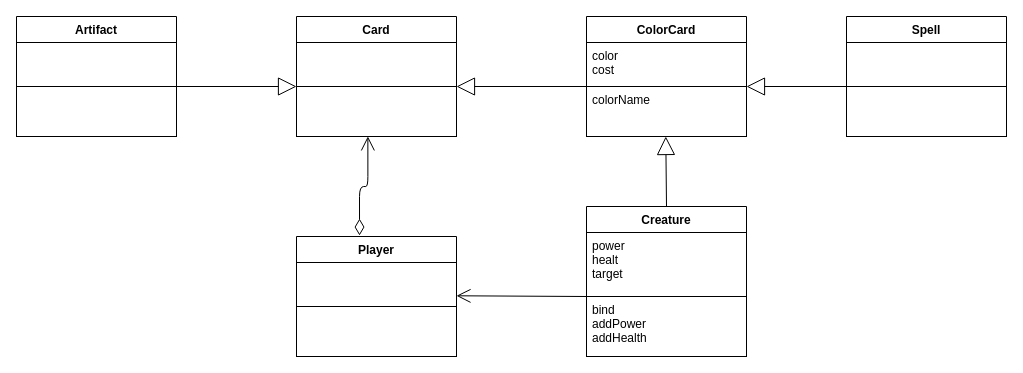
Some shapes in this 1023 by 373 pixel diagram are drawn without their labels. The centre of each missing label's shape, as x and y in pixels:
buy use: the point at 376,331
cost: the point at 96,64
health cards: the point at 376,284
image description: the point at 376,64
quote: the point at 926,111
